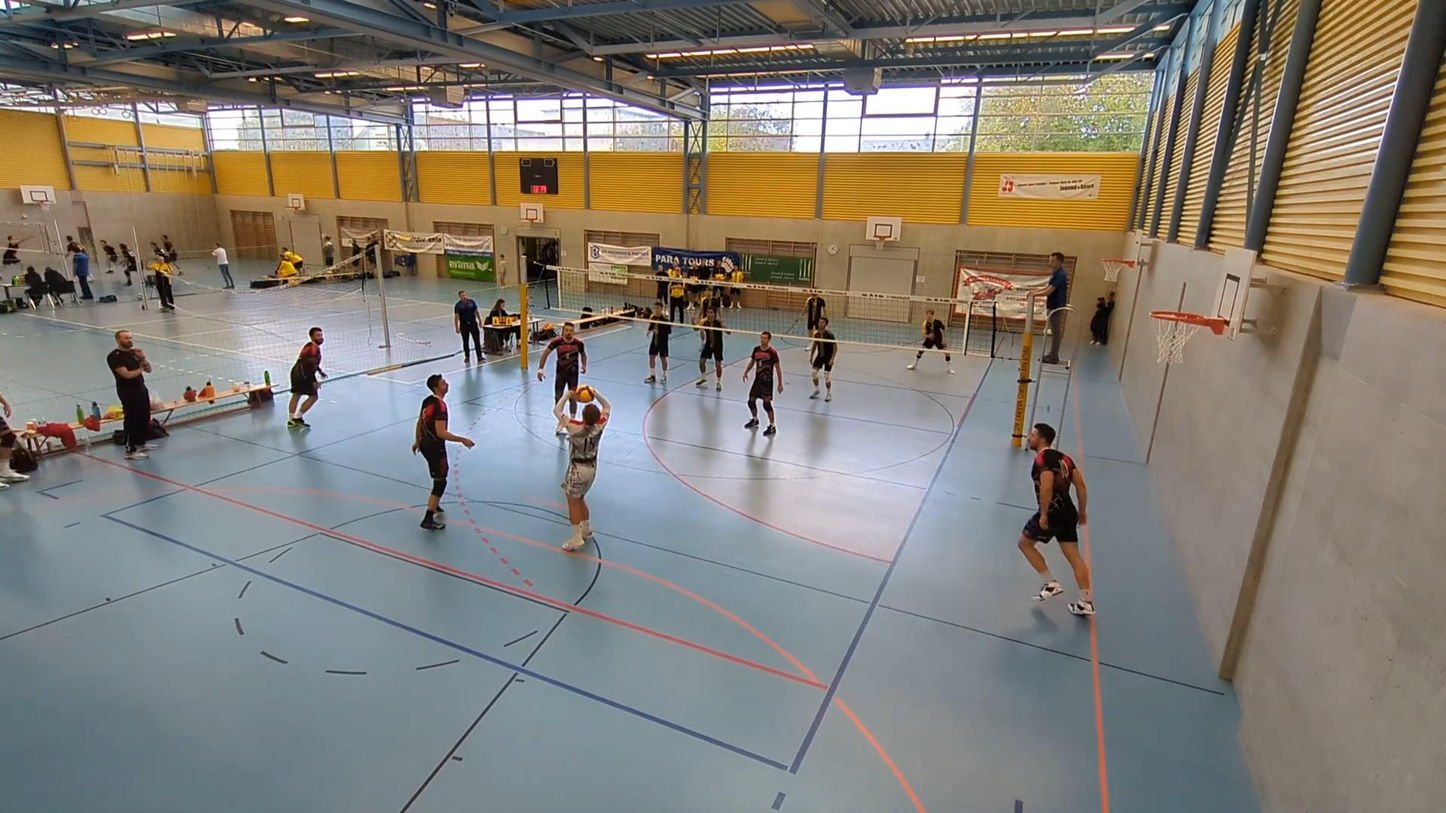Player: (1018, 423, 1094, 615), (412, 375, 474, 530), (743, 331, 783, 436), (287, 327, 327, 427), (538, 322, 586, 401), (907, 309, 954, 373), (695, 311, 730, 390), (644, 300, 672, 383), (810, 317, 837, 400), (804, 291, 825, 334), (700, 285, 722, 312)
Set: (557, 383, 604, 554)
ball: (569, 386, 593, 400)
